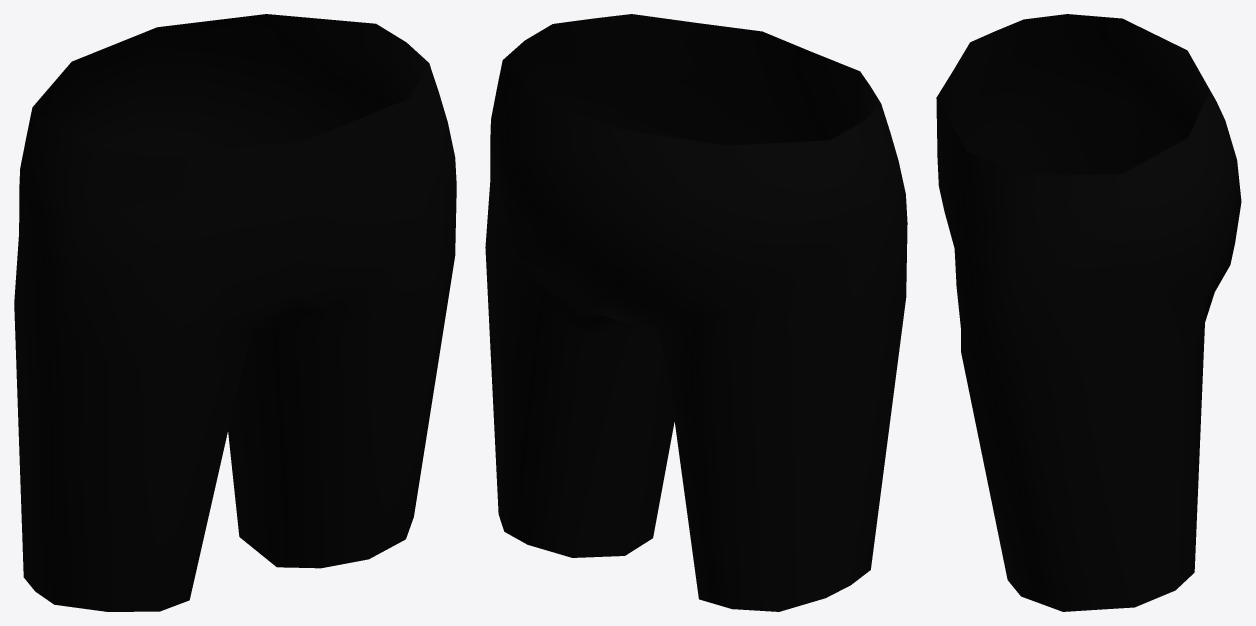
Rendered from Bermuda.glb.
The picture shows the model from 3 angles, left to right: view 1: azimuth 30°, elevation 25°; view 2: azimuth 150°, elevation 25°; view 3: azimuth 270°, elevation 25°; orthographic projection. The views are drawn at different scales.
Parts seen in each view (by area): view 1: Bermuda; view 2: Bermuda; view 3: Bermuda.
Part boxes in pixels (x1,y1,x2,y2): Bermuda: [14, 14, 456, 611]; Bermuda: [485, 14, 907, 611]; Bermuda: [936, 14, 1241, 611].
Bounding box in the file's own units: 0.287 × 0.3449 × 0.2084.
1 material, 1 textured.
